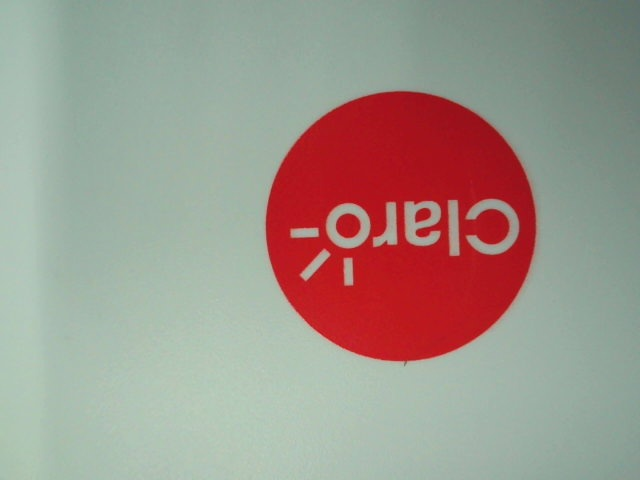BC_ClaorRed: (261, 85, 544, 372)
